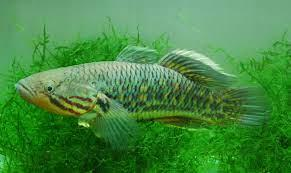Goby: (16, 44, 266, 144)
